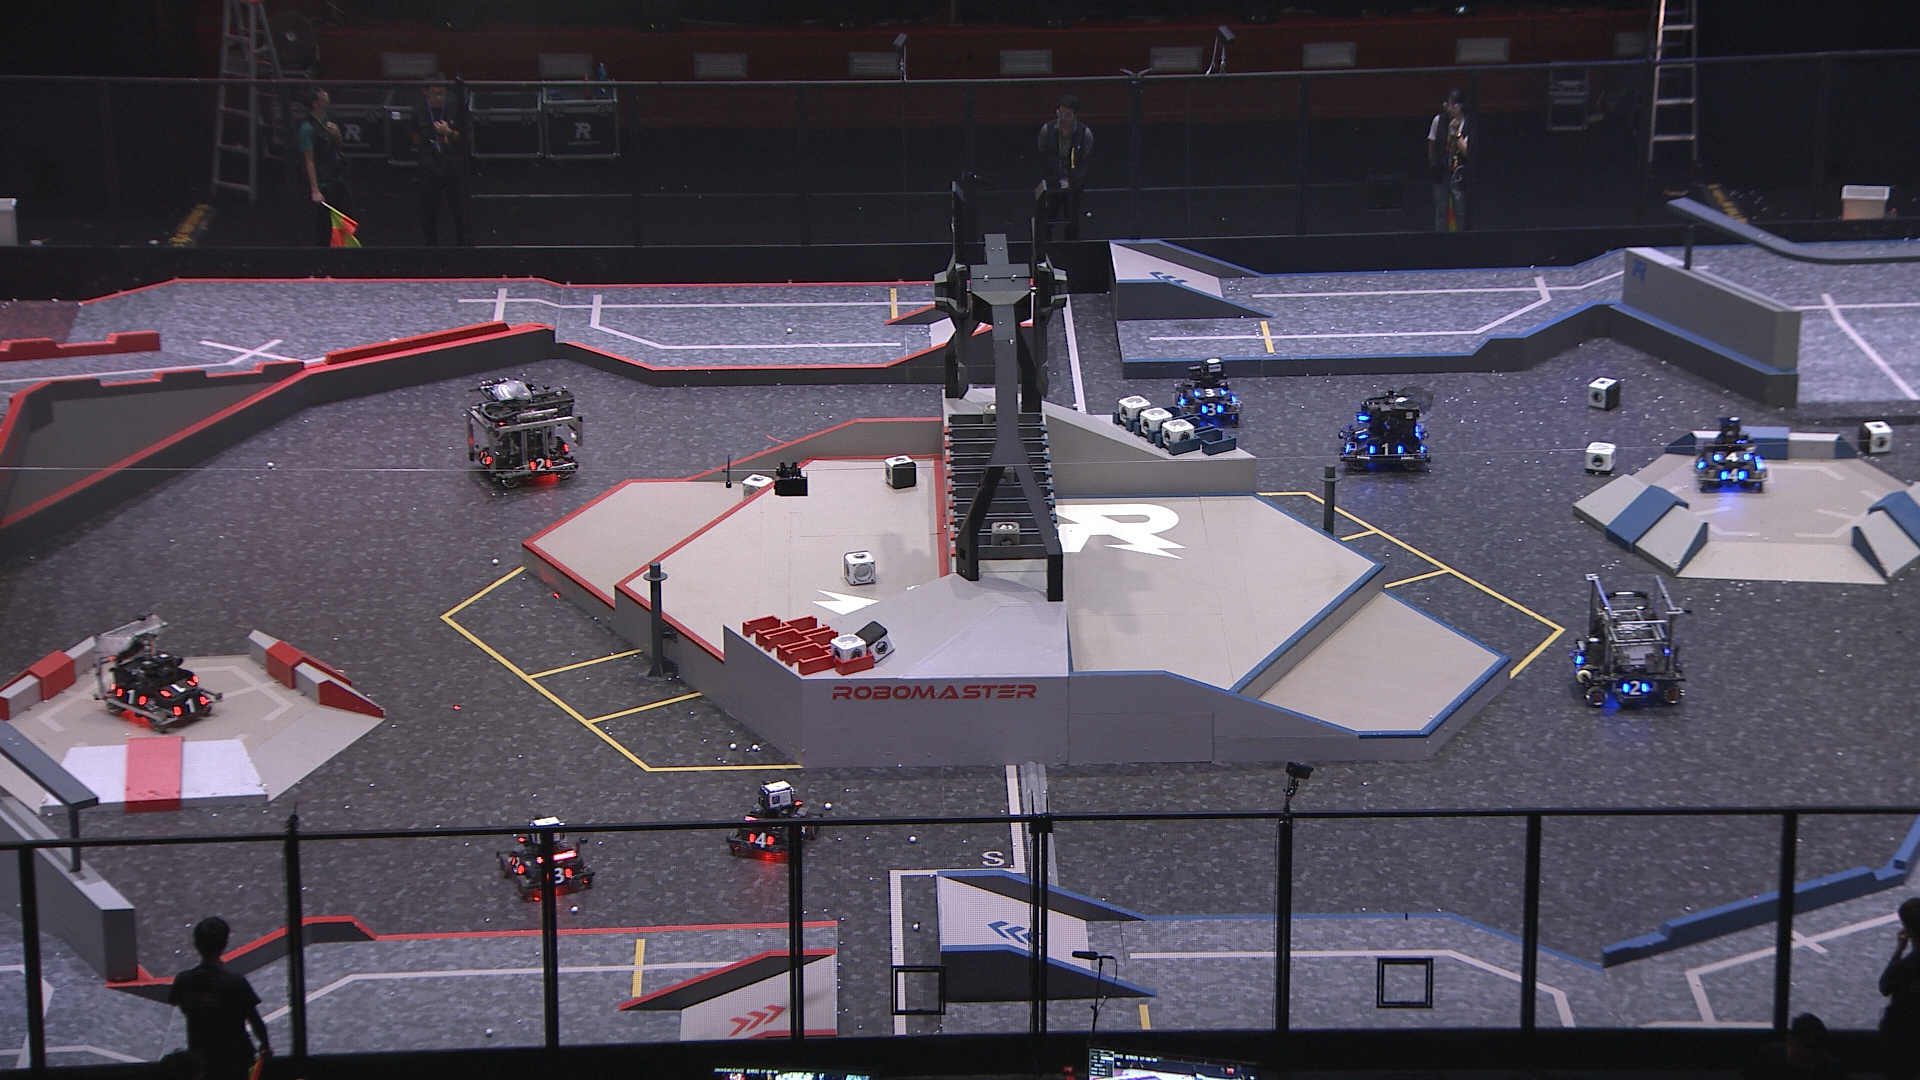armor: (173, 694, 210, 717), (116, 684, 148, 709), (160, 678, 196, 699), (1367, 442, 1406, 458), (1720, 467, 1749, 485), (1713, 450, 1753, 463), (1200, 401, 1226, 419), (1195, 386, 1228, 401), (1622, 680, 1650, 698), (746, 831, 775, 847), (527, 456, 553, 473), (508, 855, 527, 876), (551, 865, 574, 884), (477, 448, 496, 469), (1353, 423, 1371, 442), (1342, 433, 1356, 456), (1571, 647, 1585, 669), (1693, 455, 1712, 471), (1178, 389, 1188, 407)
car: (1571, 570, 1692, 711), (92, 617, 225, 735), (463, 378, 589, 491), (498, 812, 596, 903), (1338, 384, 1436, 471), (728, 779, 825, 856), (1693, 414, 1771, 493), (1174, 353, 1245, 425)
